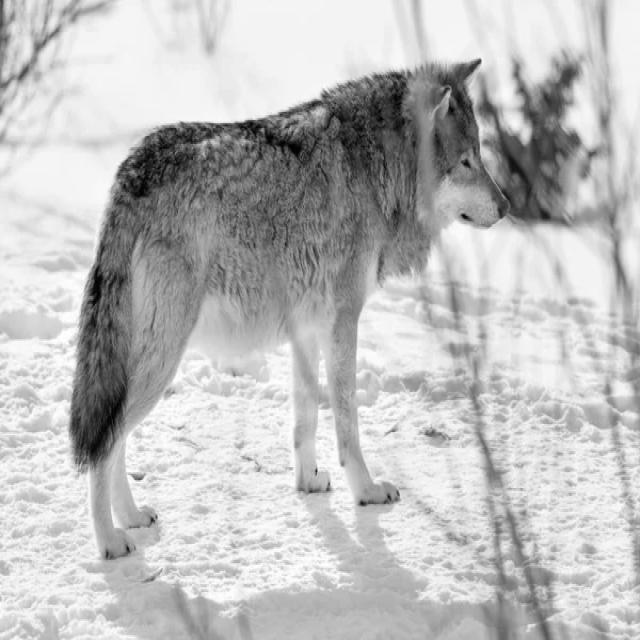Animal: (69, 62, 509, 559)
